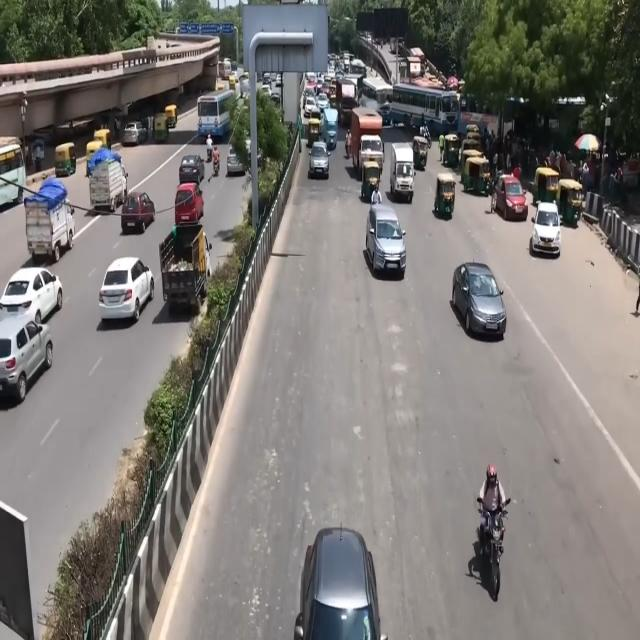auto: (22, 182, 74, 264), (0, 140, 27, 212), (557, 178, 584, 227), (462, 154, 490, 198), (532, 165, 559, 208), (434, 172, 456, 218), (361, 160, 382, 202), (461, 136, 482, 176), (54, 142, 76, 178), (322, 107, 339, 151), (443, 133, 462, 168), (412, 134, 430, 170), (86, 140, 104, 172), (307, 113, 322, 149), (153, 112, 169, 142), (94, 128, 111, 152), (164, 104, 178, 130), (228, 74, 236, 90)
bike-auto: (475, 496, 509, 600), (419, 125, 432, 148), (212, 151, 220, 176)
